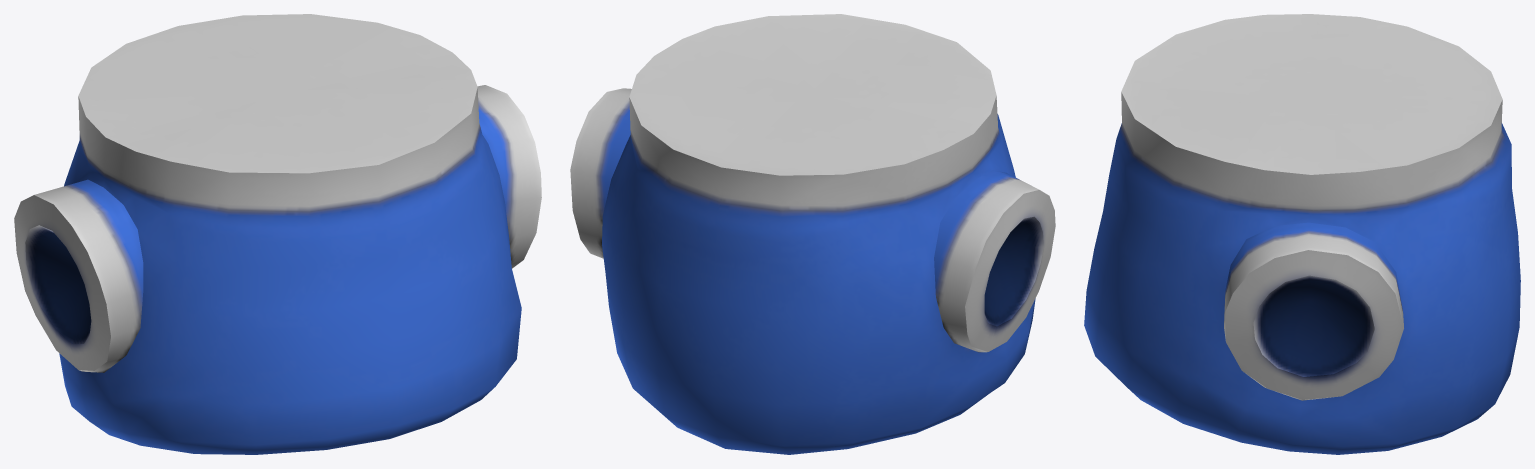
Rendered from IG_Armor_ElecProtect.fbx.
3 renders of one model, left to right at view 1: azimuth 30°, elevation 25°; view 2: azimuth 150°, elevation 25°; view 3: azimuth 270°, elevation 25°, orthographic. The views are drawn at different scales.
Parts seen in each view (by area): view 1: JLAB_ProtectiveClothes_Body; view 2: JLAB_ProtectiveClothes_Body; view 3: JLAB_ProtectiveClothes_Body.
Part boxes in pixels (x1=…): JLAB_ProtectiveClothes_Body: x1=14, y1=14, x2=541, y2=454; JLAB_ProtectiveClothes_Body: x1=570, y1=14, x2=1055, y2=454; JLAB_ProtectiveClothes_Body: x1=1084, y1=14, x2=1520, y2=454.
Size of the model in its own units: 0.7204 by 0.4825 by 0.6302.
1 material, 1 textured.
